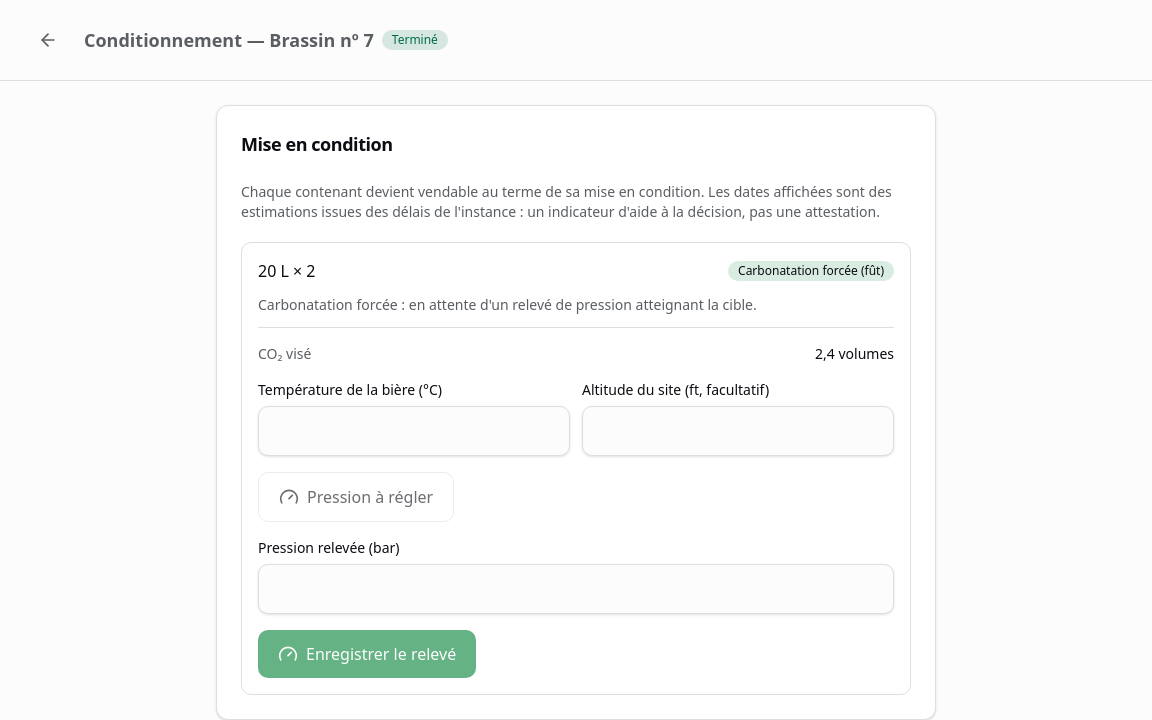
Test: relevé de carbonatation forcée (#273) › relevé atteignant la cible › annonce que la mesure atteint la cible
Type "4" into the number field labelled "Température de la bière (°C)".
click(414, 431); type("4")  # box left=258, top=406, right=570, bottom=456
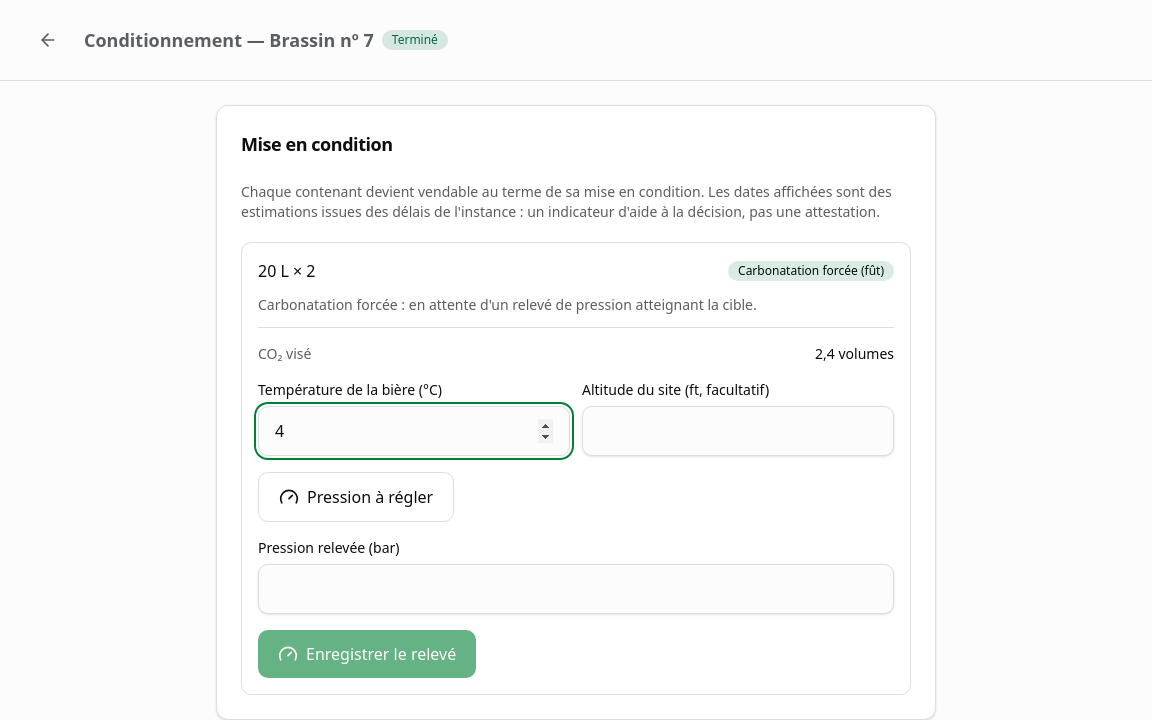
Type "1.3" into the number field labelled "Pression relevée (bar)".
click(576, 589); type("1.3")  # box left=258, top=564, right=894, bottom=614
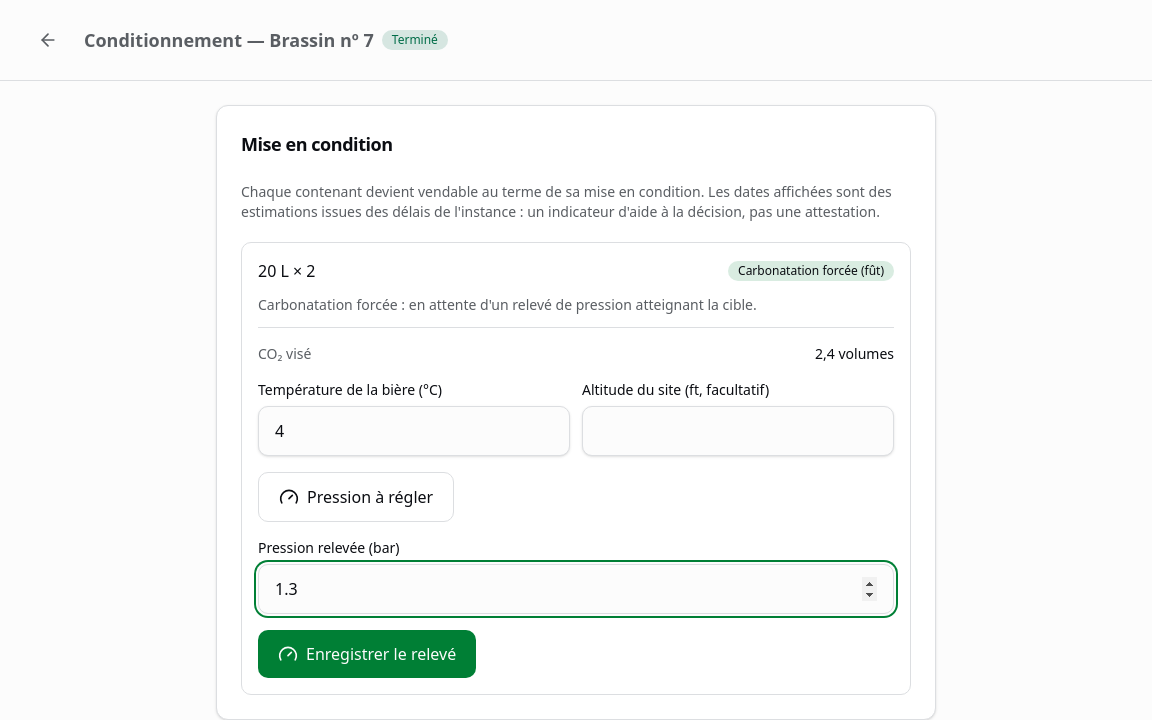
Click the button "Enregistrer le relevé".
click(367, 654)  # box left=258, top=630, right=476, bottom=678
(page scrolled)
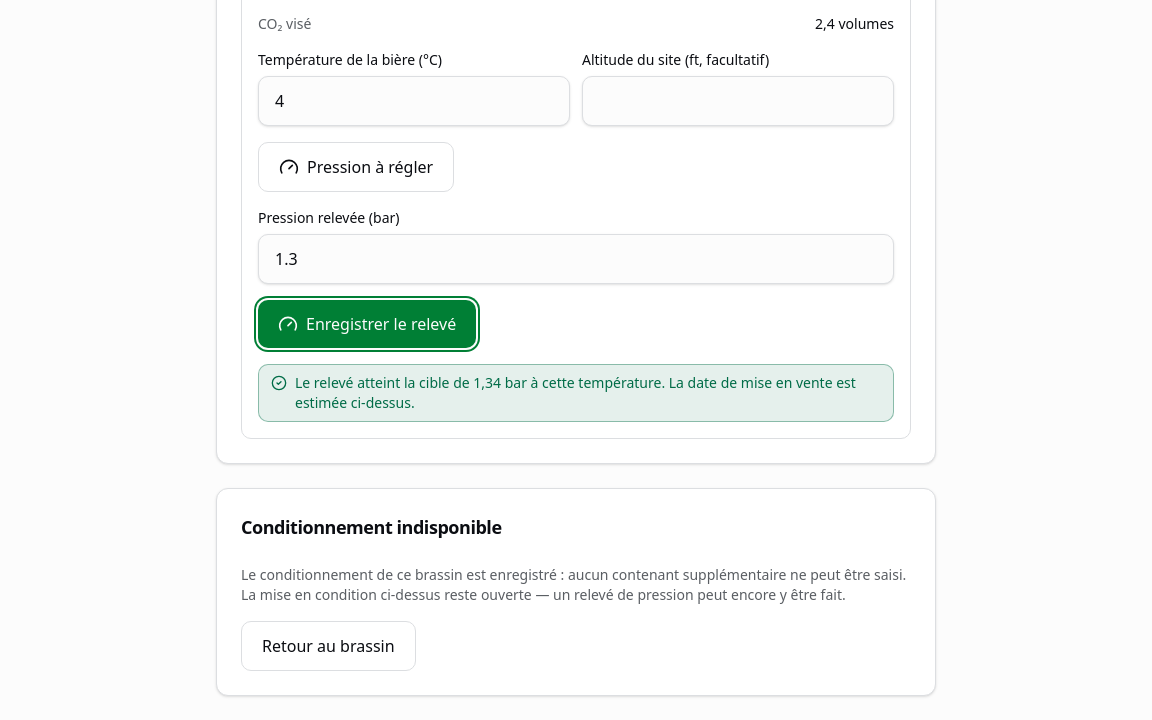
Expected: the message that starts with "Le relevé atteint la cible de" shows "atteint la cible de 1,34 bar", left=258, top=364, right=894, bottom=422
